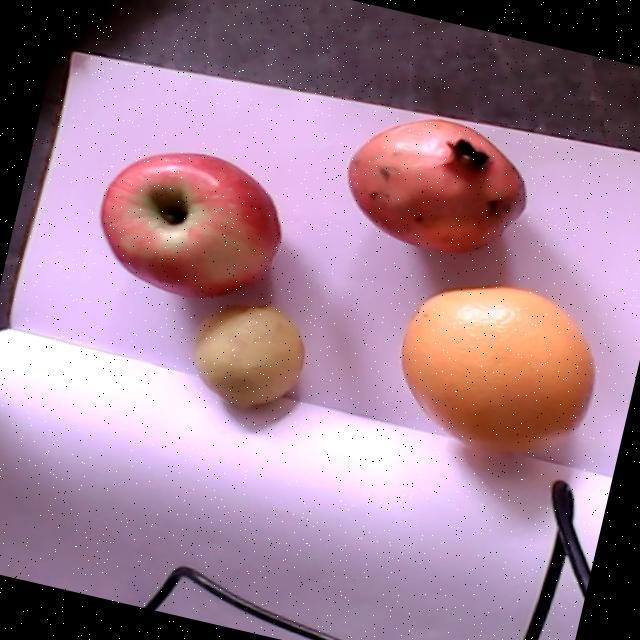apple: (99, 151, 282, 298)
lemon: (191, 303, 305, 408)
orange: (401, 285, 595, 450)
pomegranate: (348, 116, 527, 255)
